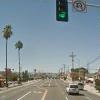traffic lights: (54, 0, 69, 24)
